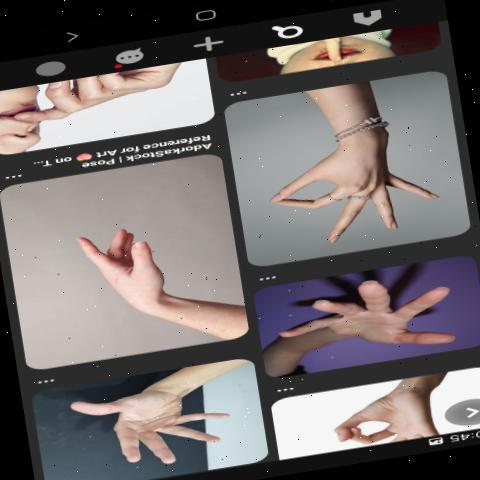Hands: (250, 102, 458, 254), (22, 211, 207, 331), (252, 273, 467, 352), (50, 383, 241, 464)
